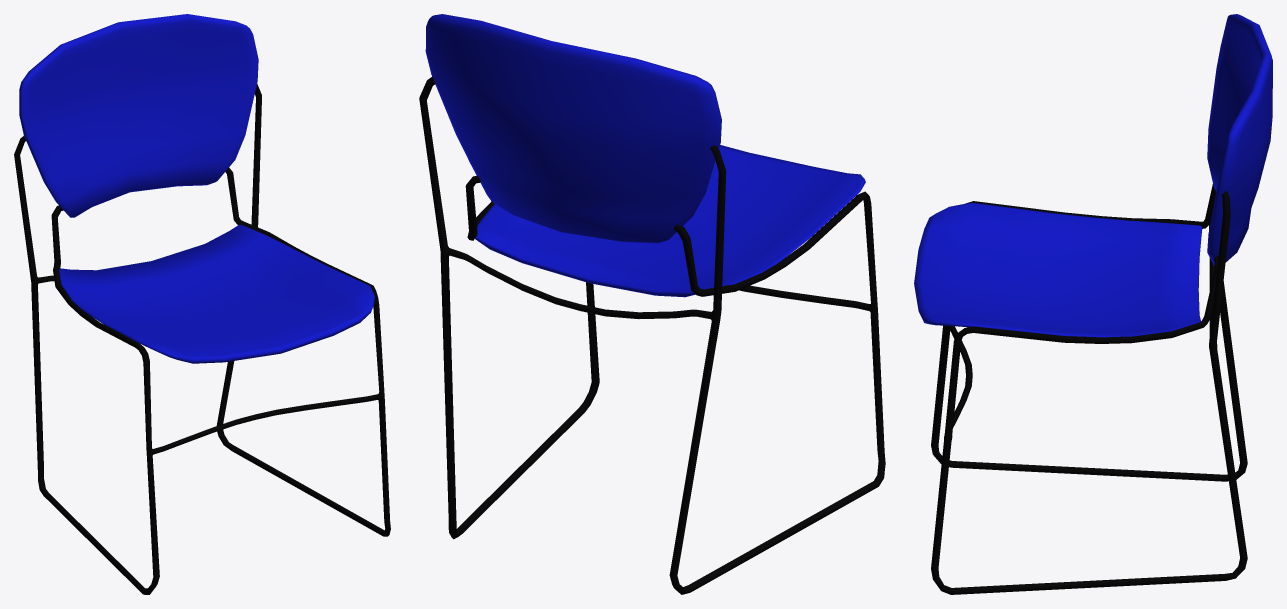
The model's file is SM_Chair_01.FBX.
3 renders of one model, left to right at view 1: azimuth 30°, elevation 25°; view 2: azimuth 150°, elevation 25°; view 3: azimuth 270°, elevation 25°, orthographic. The views are drawn at different scales.
Visible parts, largest first — view 1: Chair; view 2: Chair; view 3: Chair.
Boxes of the visible parts, box(x1,y1,x2,y2) form: Chair: box(14, 14, 390, 594); Chair: box(419, 14, 885, 594); Chair: box(914, 14, 1272, 594).
Size of what is drawn, in the model's own units: 52.13 by 88.02 by 59.9.
